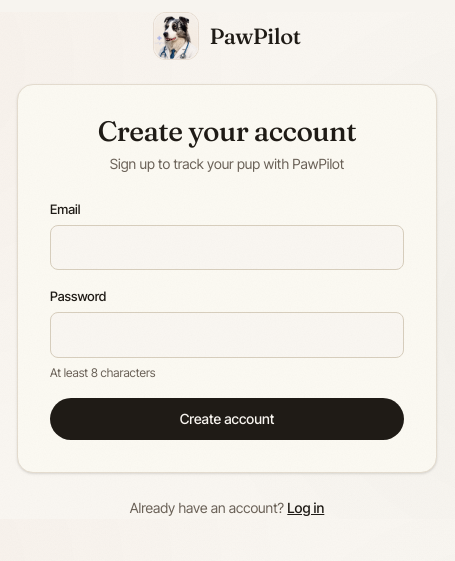
Test: SignupPage › shows inline errors on empty submit
Step 1. Click the button "Create account" → x=227, y=419, box [50, 398, 404, 440]
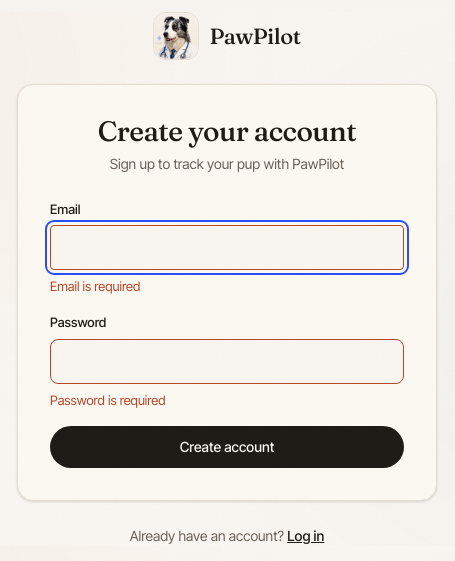
expect the text "Email is required" is shown: met, box [50, 278, 140, 294]
expect the text "Password is required" is shown: met, box [50, 392, 166, 408]
